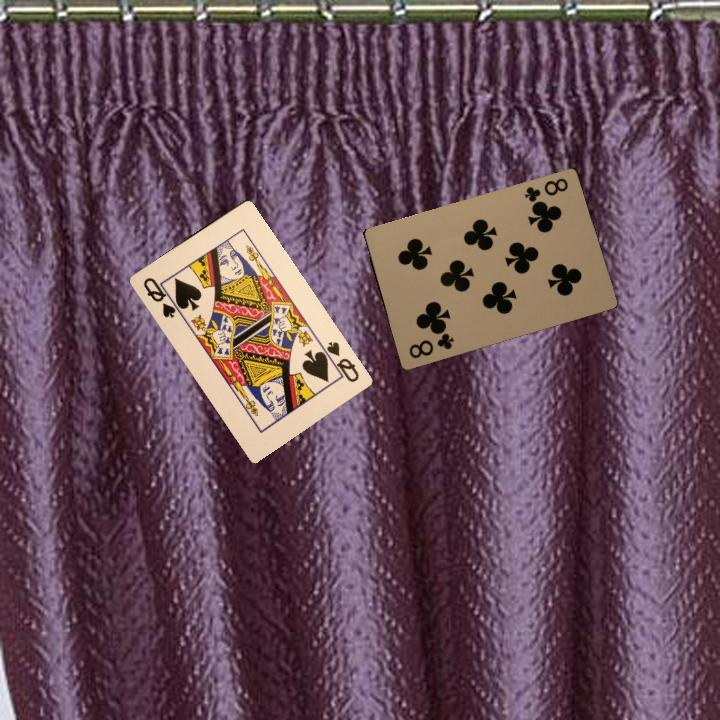8c: (520, 174, 571, 209), (405, 328, 456, 361)
Qs: (139, 273, 184, 321), (318, 337, 362, 385)
